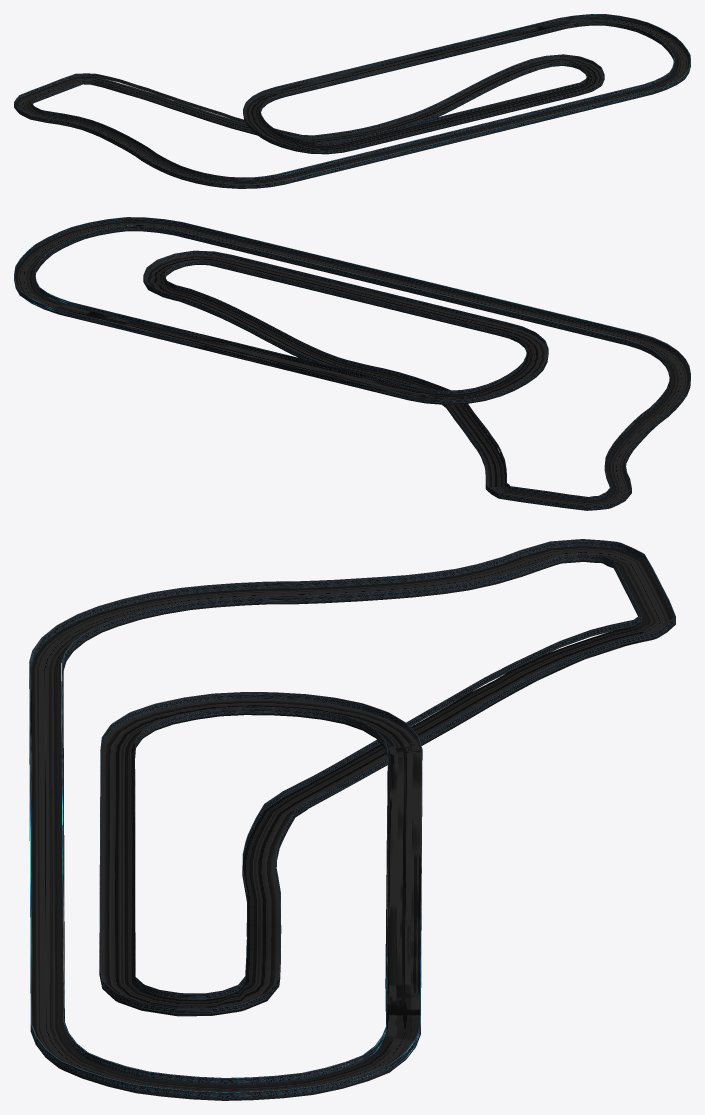
File: Bot_Point.glb
The picture shows the model from 3 angles, top to bottom: view 1: azimuth 30°, elevation 25°; view 2: azimuth 150°, elevation 25°; view 3: azimuth 270°, elevation 25°; orthographic projection. The views are drawn at different scales.
Visible parts, largest first — view 1: Track.001, Wall1, Wall2; view 2: Track.001, Wall1, Wall2; view 3: Track.001, Wall1, Wall2.
Part boxes in pixels (x1,y1,x2,y2): Track.001: (14, 17, 690, 188); Wall1: (14, 14, 690, 187); Wall2: (31, 21, 674, 180); Track.001: (14, 221, 690, 510); Wall1: (14, 217, 690, 509); Wall2: (35, 225, 670, 500); Track.001: (29, 546, 675, 1100); Wall1: (29, 539, 675, 1099); Wall2: (61, 553, 642, 1085).
Bounding box in the file's own units: 622 × 33.17 × 307.
Materials: 3 (3 with a texture image).
